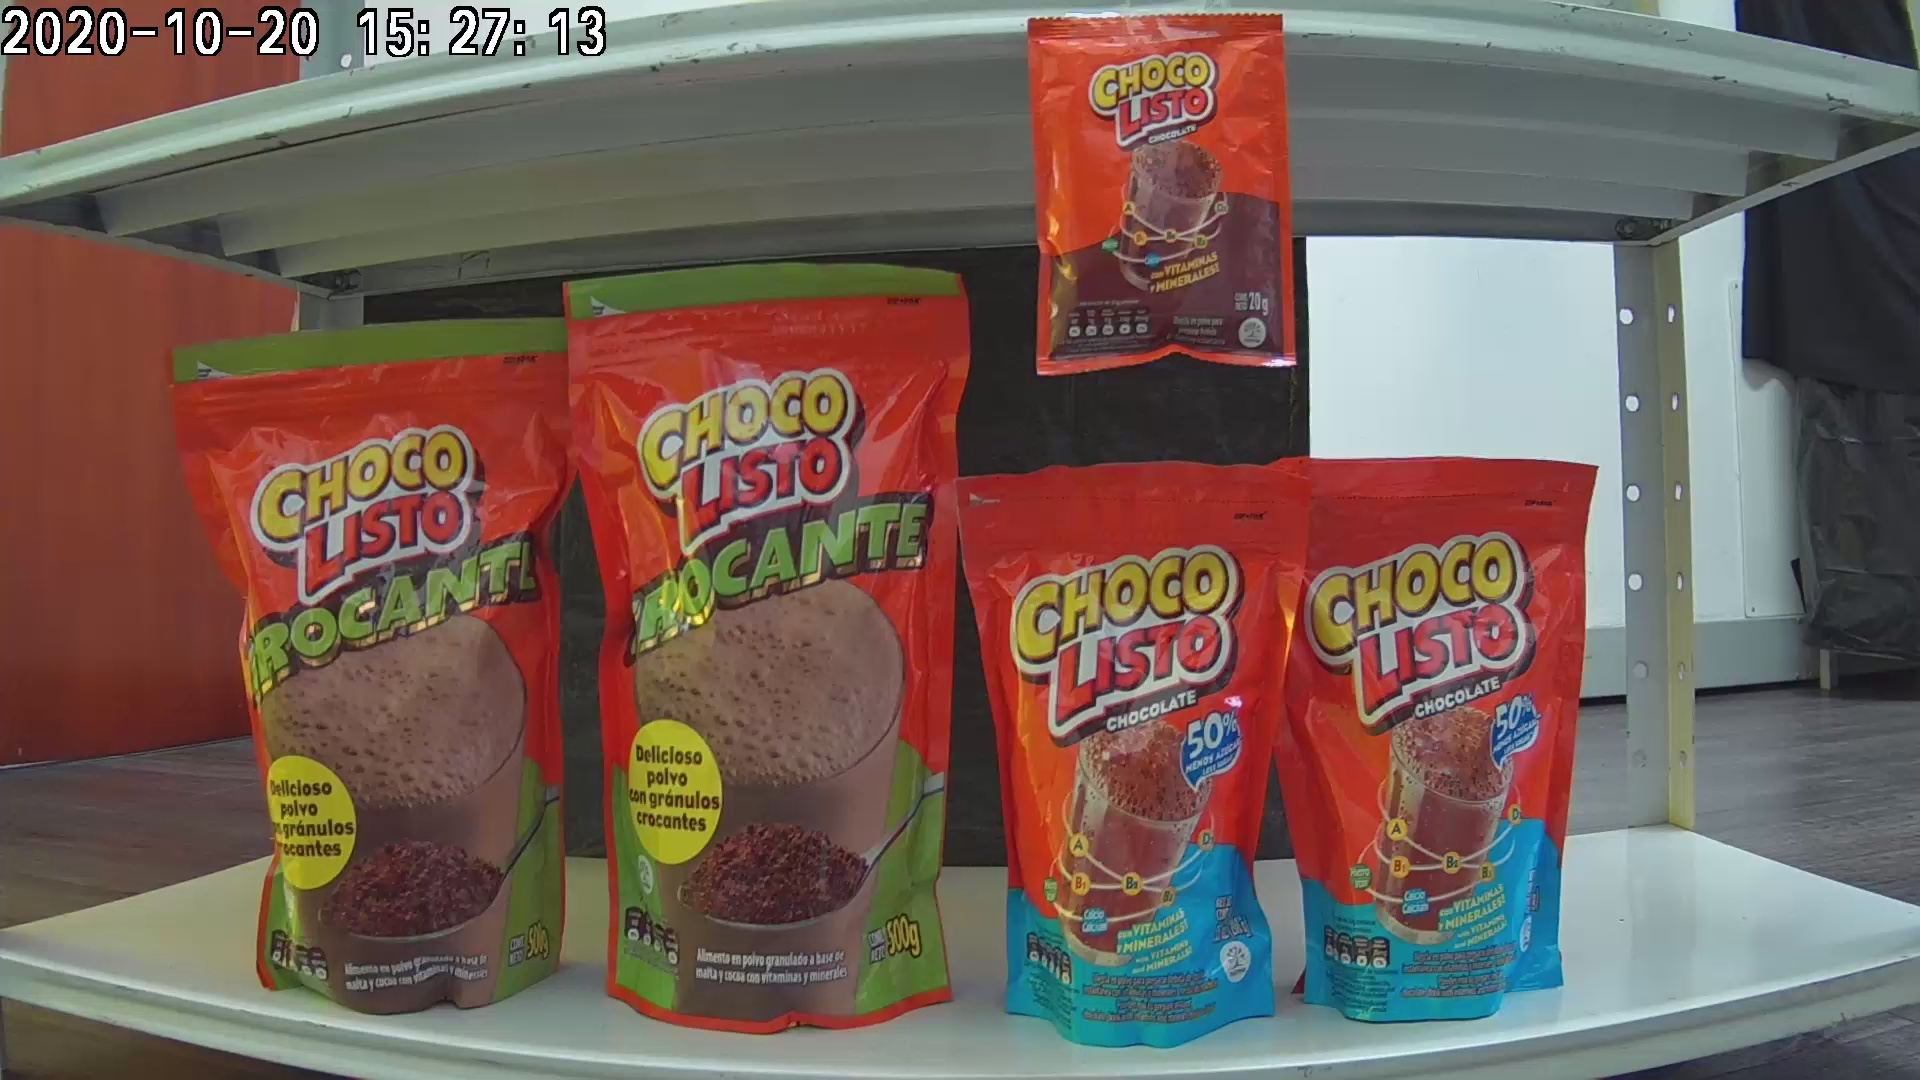COL0170102DYP50000: (152, 326, 595, 1013)
COL0170103SOB02000: (1021, 9, 1302, 378)
COL0170104DYP20000: (978, 460, 1313, 1054)
